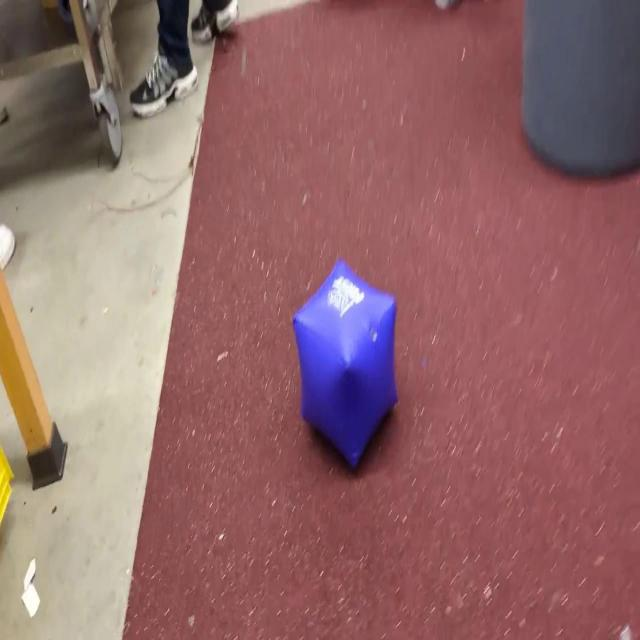frc_cube: (290, 258, 400, 468)
